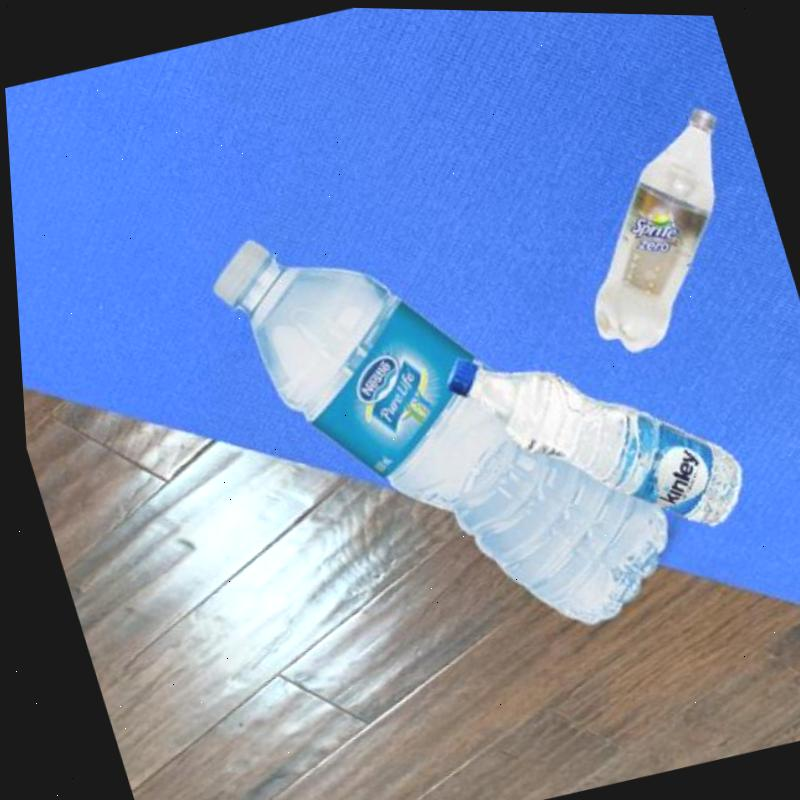botella: (193, 156, 694, 692), (434, 297, 753, 577), (536, 100, 778, 363)
